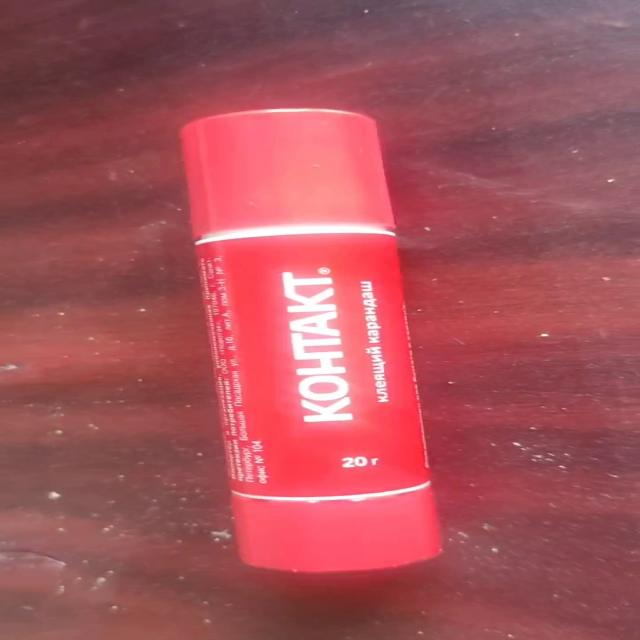glue: (178, 106, 444, 574)
